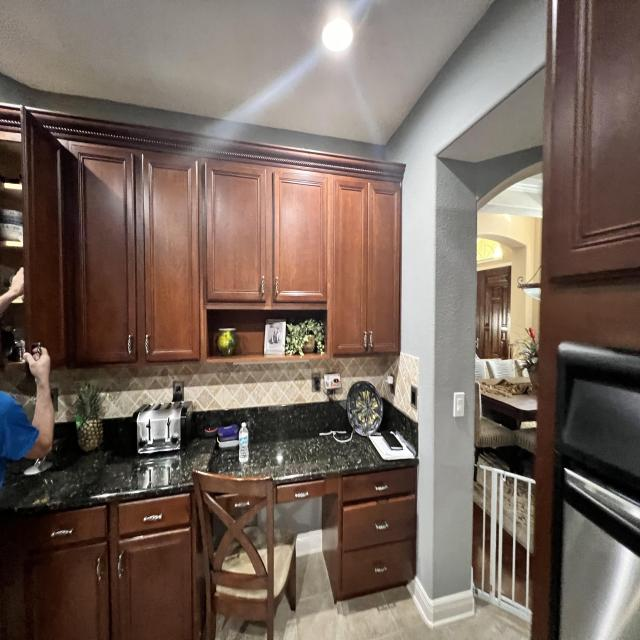Appliance_Oven: (558, 343, 640, 640)
Cabinet_Flat: (277, 468, 418, 603), (34, 494, 191, 543)
Cabinet_Shaker: (21, 110, 404, 369), (544, 0, 640, 280), (30, 528, 195, 640)
Countertop_Granite: (0, 435, 383, 514)
